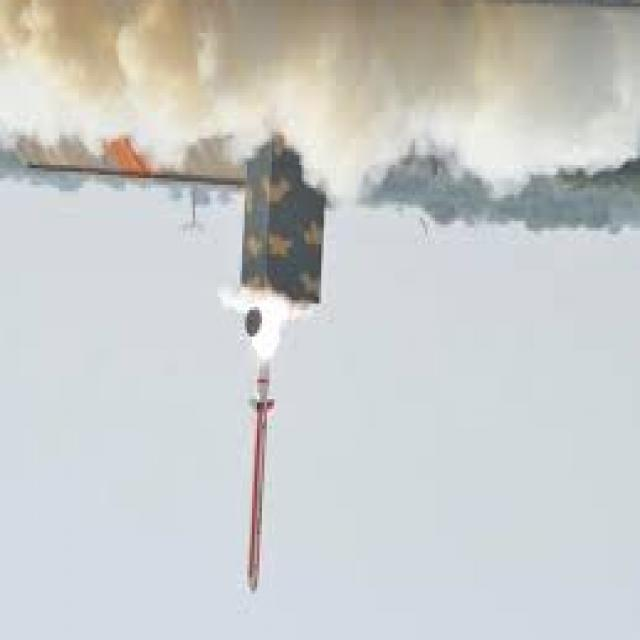missile: (242, 382, 278, 598)
